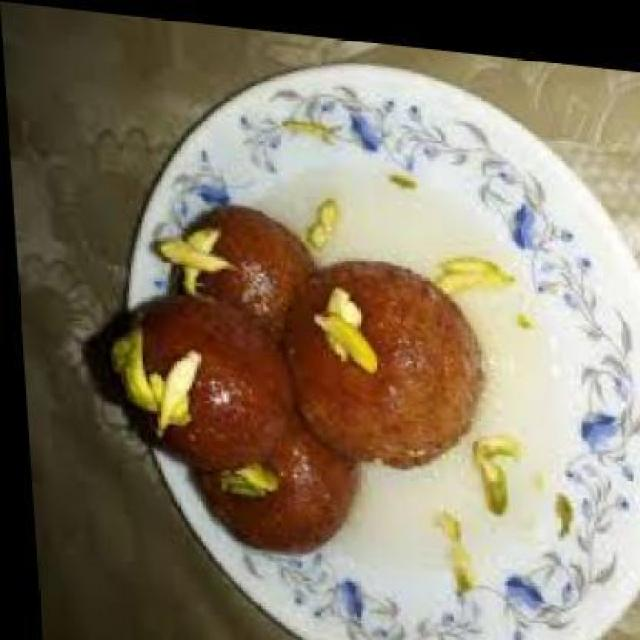gulab_jamun: (274, 243, 483, 466), (103, 284, 292, 473), (177, 394, 354, 554), (166, 194, 314, 334)
